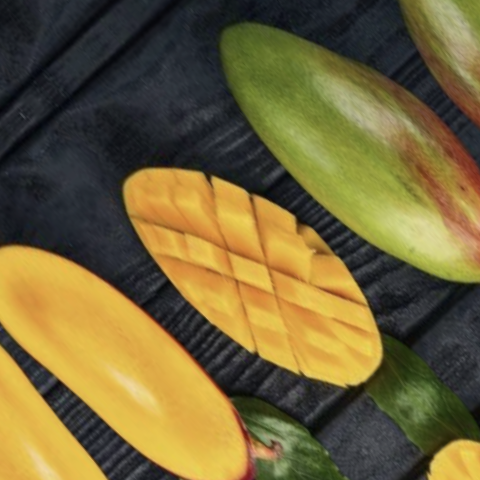mango: (58, 64, 421, 436), (170, 0, 480, 352), (0, 183, 308, 480)
